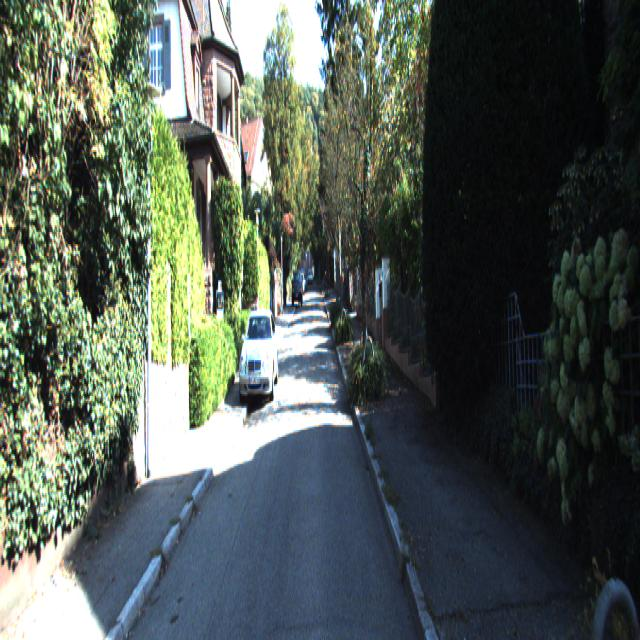Car: (238, 307, 279, 405), (292, 270, 303, 310)
